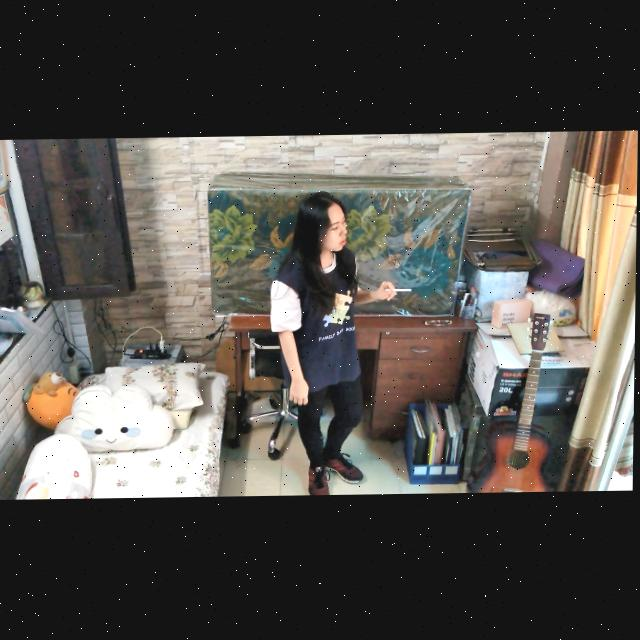cigarette: (385, 289, 413, 293)
